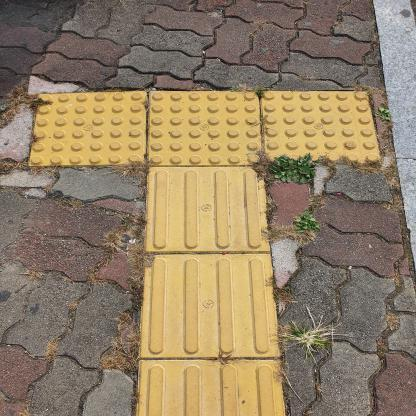podotacti: (21, 82, 391, 415)
